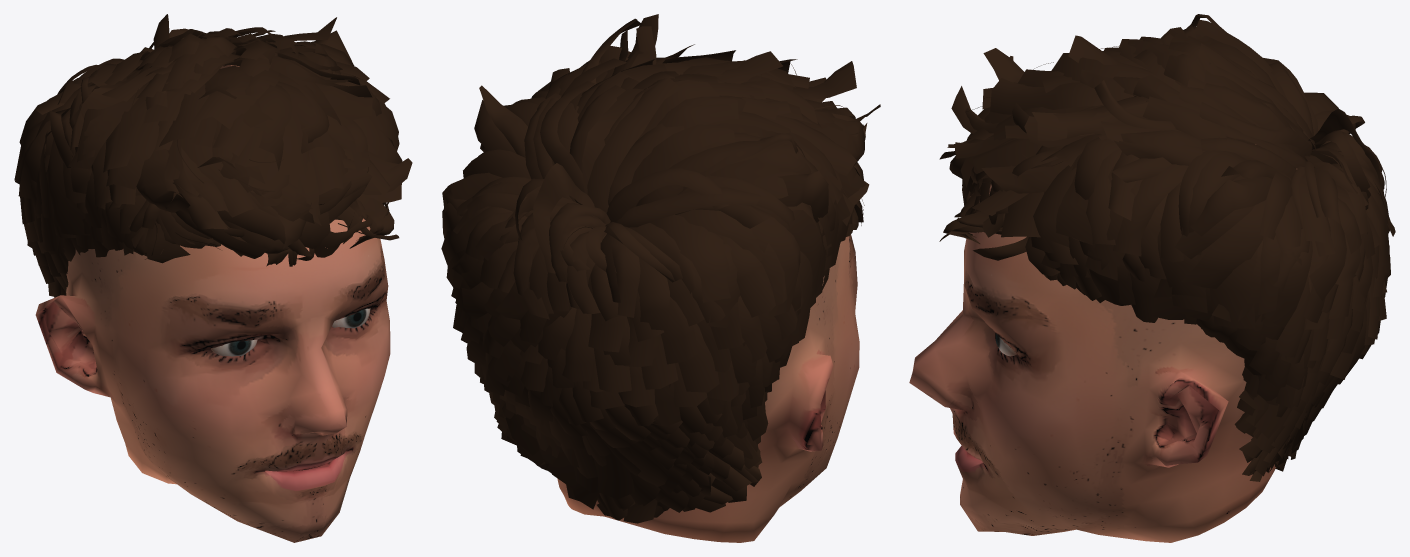
File: noah.glb
3 renders of one model, left to right at view 1: azimuth 30°, elevation 25°; view 2: azimuth 150°, elevation 25°; view 3: azimuth 270°, elevation 25°, orthographic. The views are drawn at different scales.
Visible parts, largest first — view 1: Hair9.002, HG_Body.002, HG_Eyes.002; view 2: Hair9.002, HG_Body.002; view 3: Hair9.002, HG_Body.002.
Part boxes in pixels (box(x1,y1,x2,y2)): Hair9.002: box(14, 14, 412, 297); HG_Body.002: box(35, 65, 390, 542); HG_Eyes.002: box(211, 308, 370, 356); Hair9.002: box(441, 14, 880, 523); HG_Body.002: box(557, 234, 859, 542); Hair9.002: box(939, 14, 1395, 481); HG_Body.002: box(909, 144, 1296, 542).
Size of the model in its own units: 0.212 by 0.279 by 0.258.
4 materials, 3 textured.
